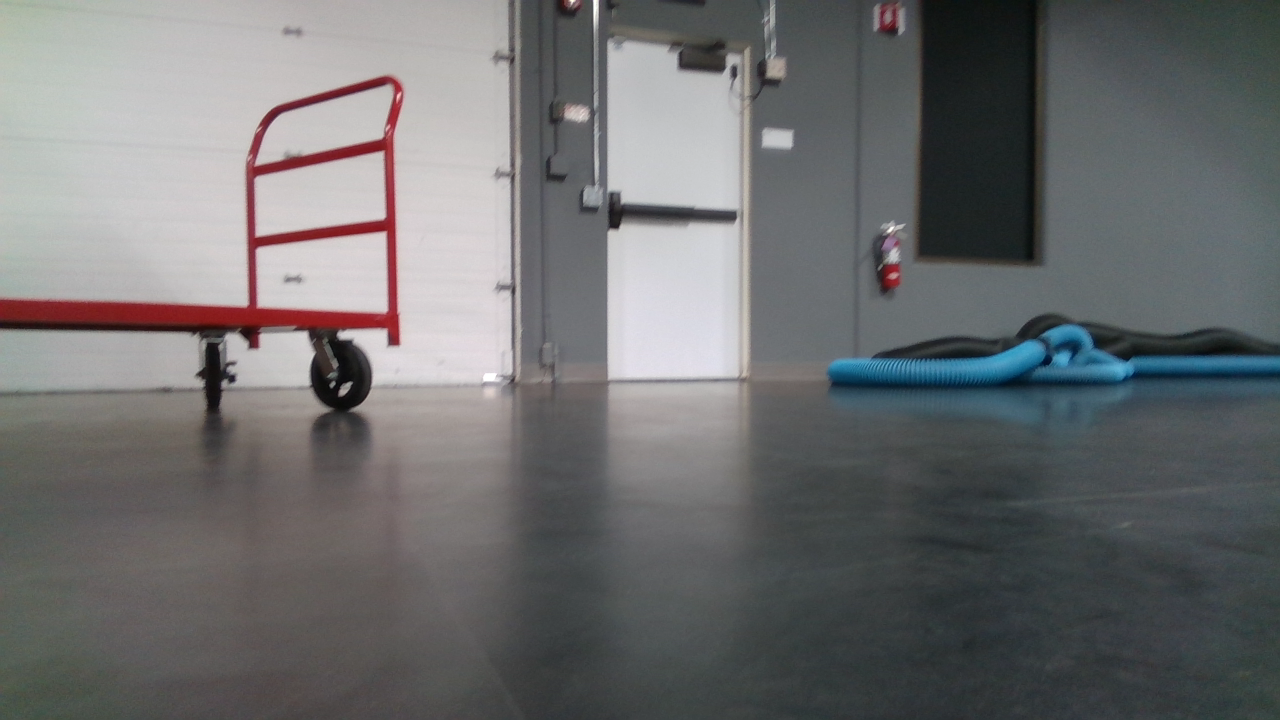Dolly: (0, 56, 410, 426)
Wheel: (308, 335, 377, 419), (192, 332, 233, 423)
